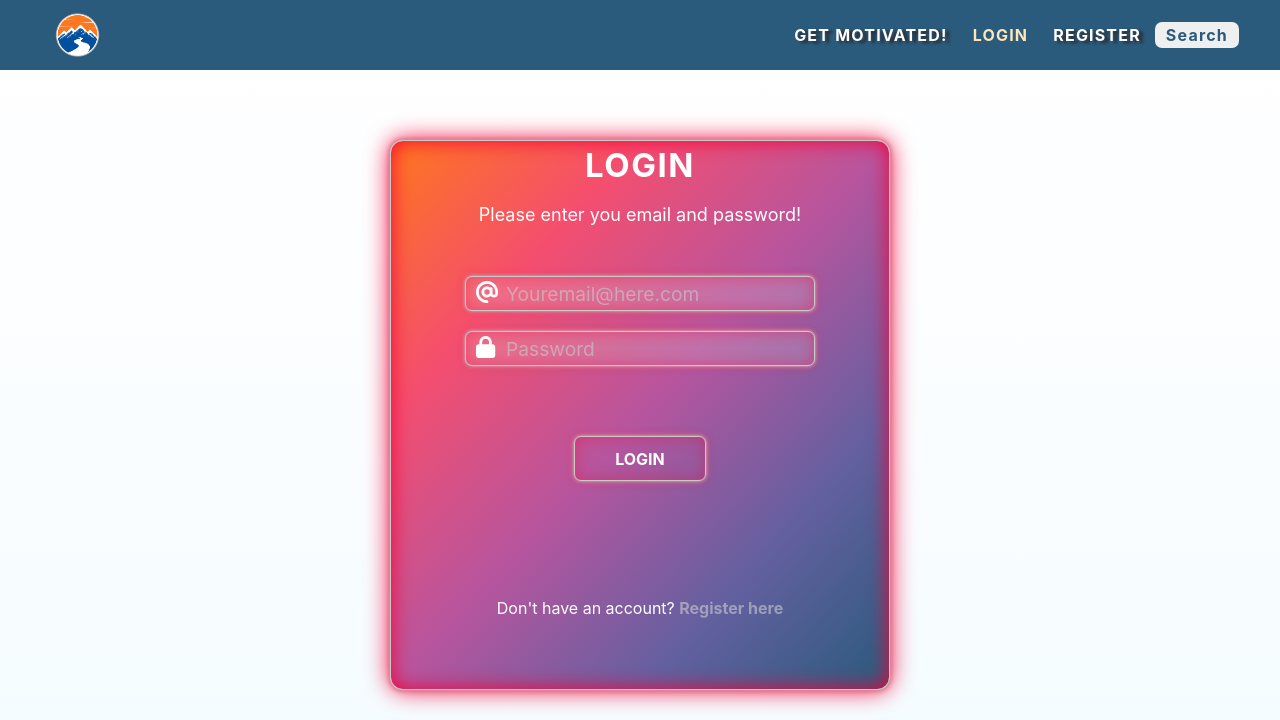
Test: Login Page Unhappy Paths › Show input validation errors on blur › password validation error with less than 6 characters
Type "12345" into the password field with placeholder "Password" at (640, 349), box [465,331,815,366]
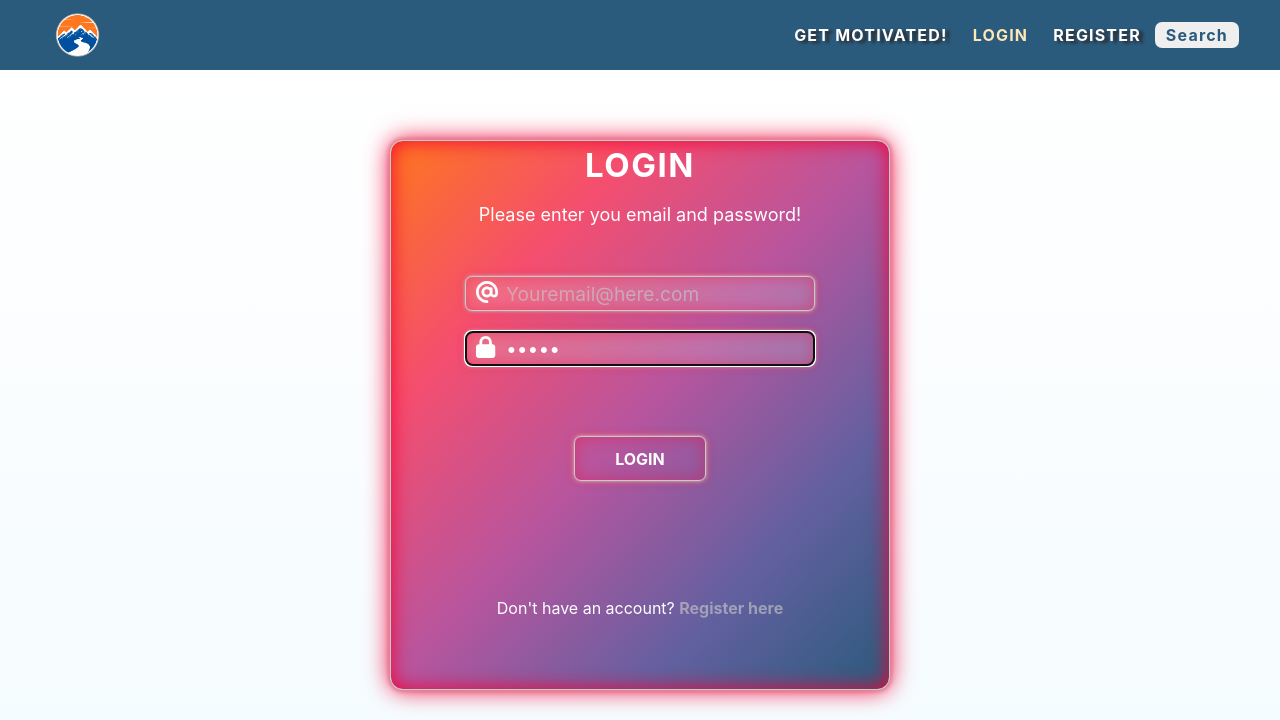
Leave the password field, box [465,331,815,366]
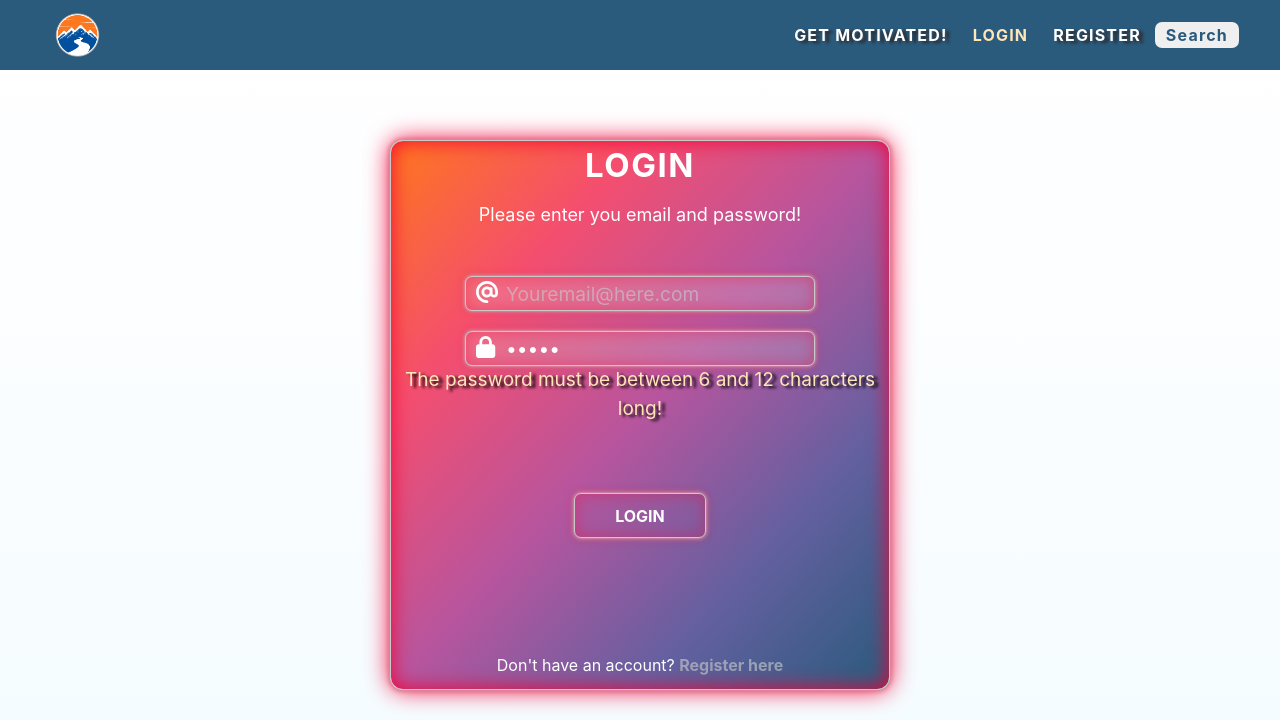
expect the text "The password must be between 6 and 12 characters long!" is shown: met, box [391,366,889,423]
